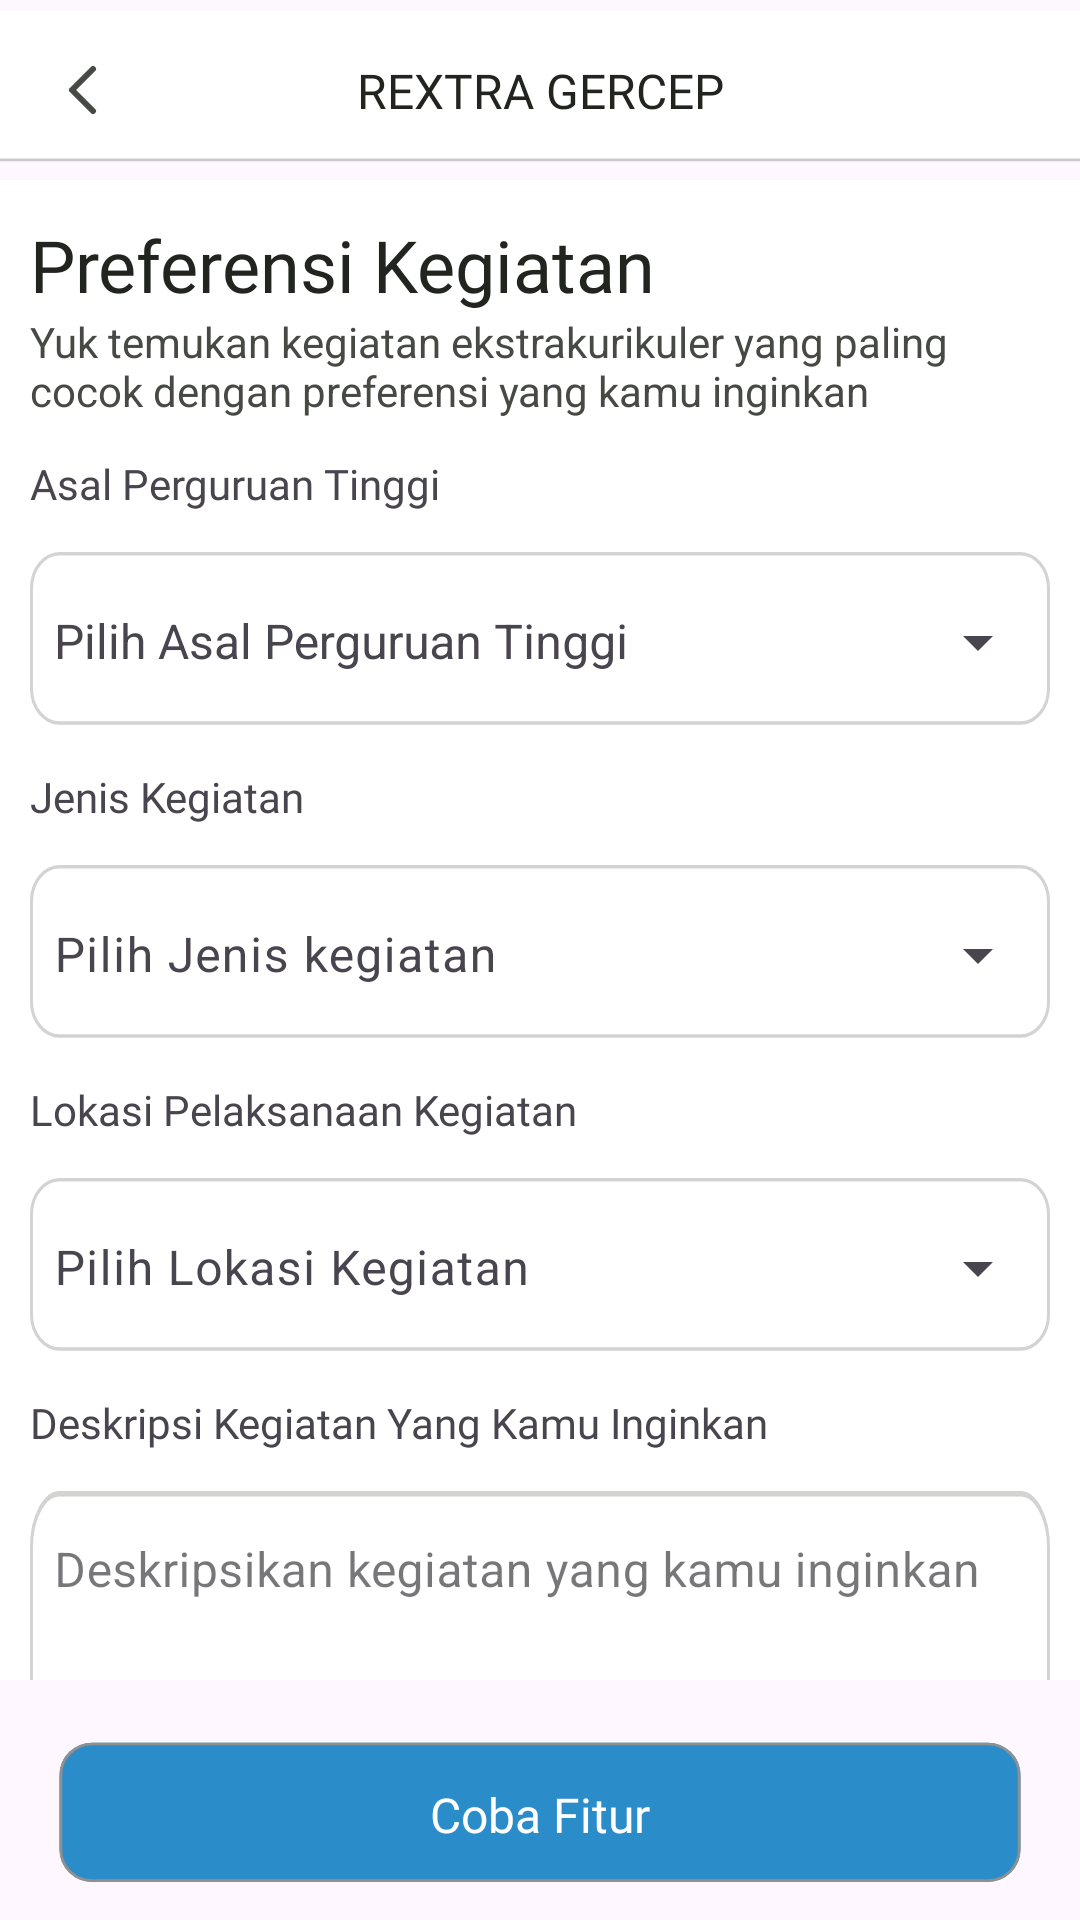

Where icons sit on this 1080px×1920px app screen, as (x1, y1, x2, y2):
left arrow: (69, 66, 96, 114)
